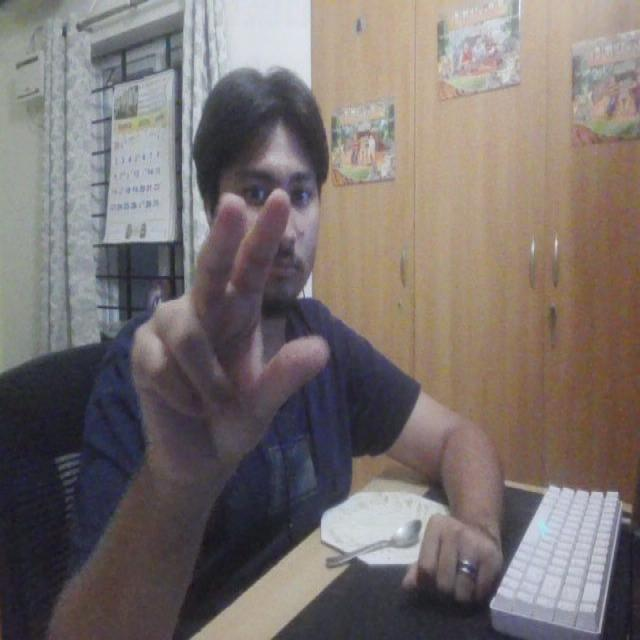no: (122, 182, 341, 488)
